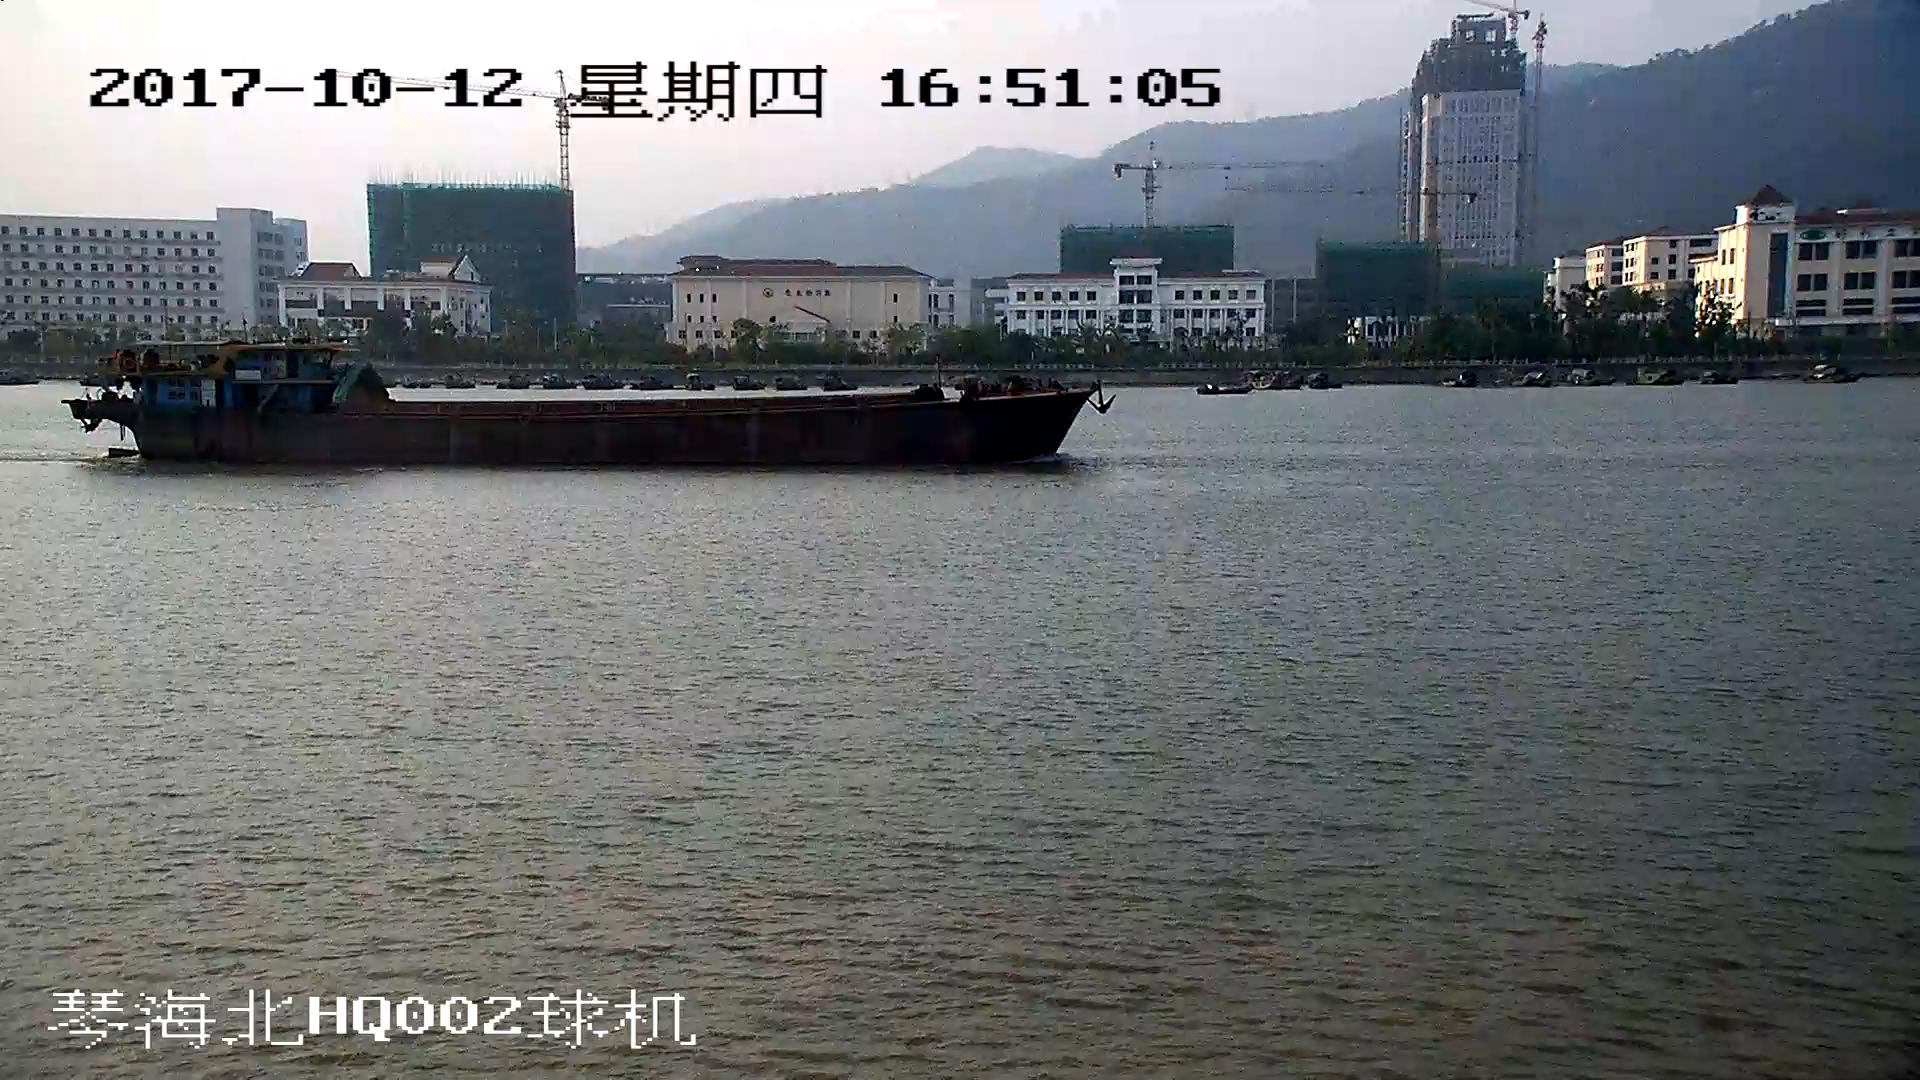bulk cargo carrier: (69, 333, 1106, 473)
